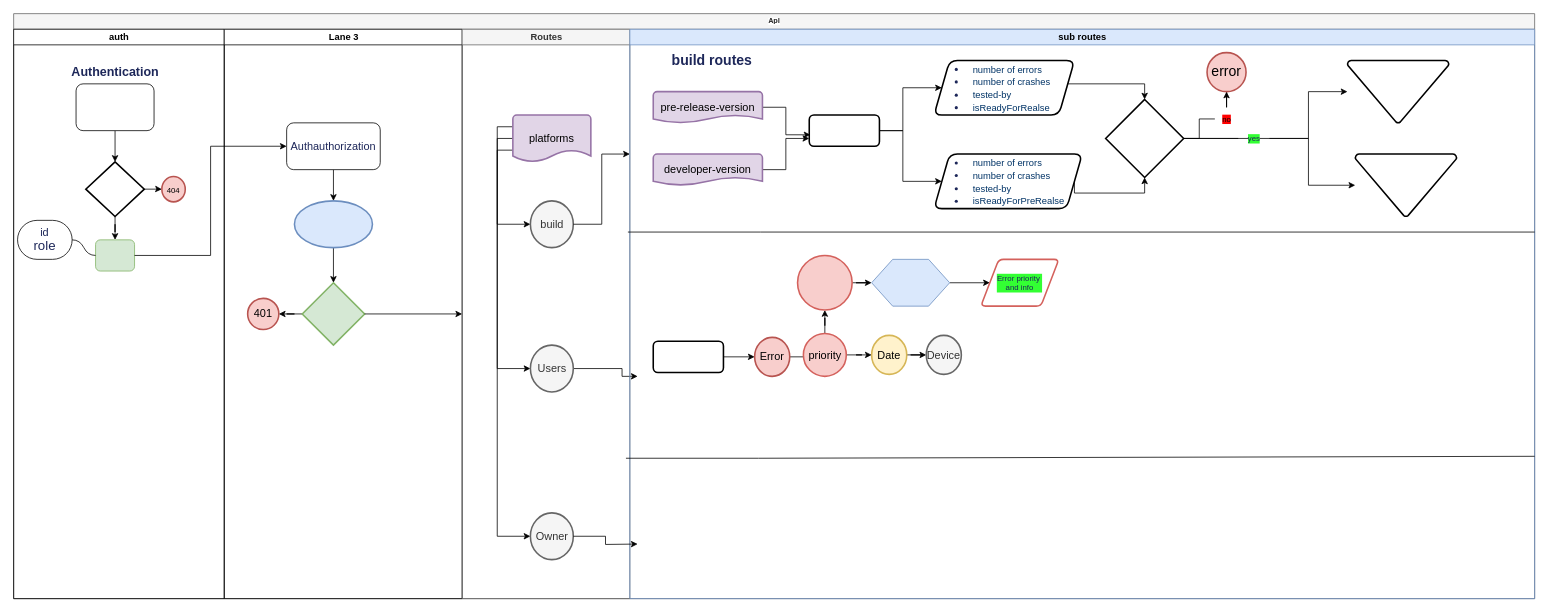
This 1549x612 diagram has some shape labels left out. Each missing label, with the centre of its shape:
"authorized access" belongs at [333,314].
"Critical or Urgent" belongs at [824,282].
"Found" belongs at [115,189].
"JWT" belongs at [115,255].
"Merge main with pre-release" belongs at [1397,91].
"Merge pre-release with development" belongs at [1405,185].
"ready to release" belongs at [1144,138].
"response" belongs at [844,130].
"send email to dev" belongs at [910,282].
"sort" belongs at [688,356].
"username password" belongs at [114,107].
"Virify Token" belongs at [333,224].
